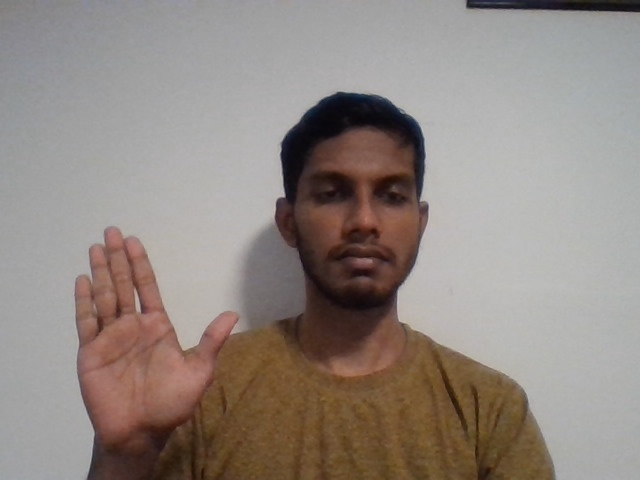hello: (43, 222, 259, 459)
